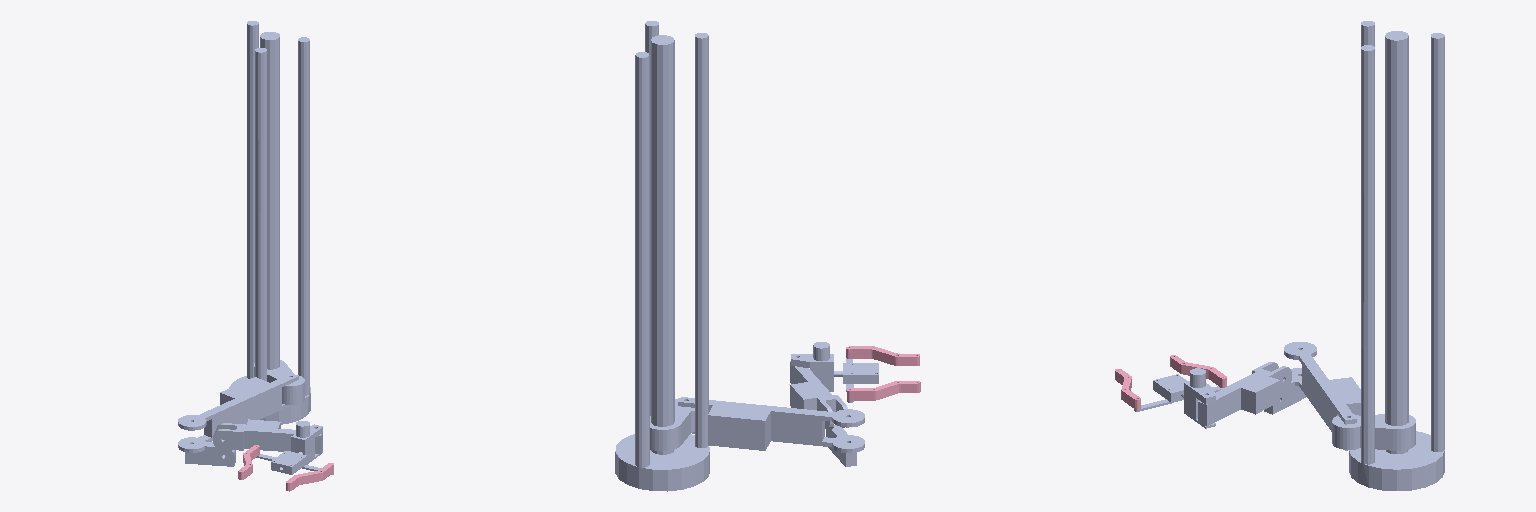
The robot description file, URDF, robot "brc_arm_description":
<?xml version="1.0" encoding="utf-8"?>
<!-- This URDF was automatically created by SolidWorks to URDF Exporter! Originally created by [author] ([email redacted]) 
     Commit Version: 1.6.0-1-g15f4949  Build Version: 1.6.7594.29634
     For more information, please see http://wiki.ros.org/sw_urdf_exporter -->
<robot
  name="brc_arm_description">
   <link name="world" />
    <joint name="fixed" type="fixed">
        <parent link="world" />
        <child link="base_link" />
    </joint>
  <link
    name="base_link">
    <inertial>
      <origin
        xyz="-0.236503421129914 -0.114070650833493 0.0912749287811716"
        rpy="0 0 0" />
      <mass
        value="127.989800714743" />
      <inertia
        ixx="11.6464707209795"
        ixy="0.746047479051374"
        ixz="0.11702150876578"
        iyy="17.6328580922711"
        iyz="0.241487672198289"
        izz="13.2544892494449" />
    </inertial>
    <visual>
      <origin
        xyz="0 0 0"
        rpy="0 0 0" />
      <geometry>
        <mesh
          filename="package://brc_arm_description/meshes/base_link.STL" />
      </geometry>
      <material
        name="">
        <color
          rgba="0.792156862745098 0.819607843137255 0.933333333333333 1" />
      </material>
    </visual>
    <collision>
      <origin
        xyz="0 0 0"
        rpy="0 0 0" />
      <geometry>
        <mesh
          filename="package://brc_arm_description/meshes/base_link.STL" />
      </geometry>
    </collision>
  </link>
  <link
    name="carriage">
    <inertial>
      <origin
        xyz="2.60133127612493E-18 0.0250000000000005 0.0539046334093021"
        rpy="0 0 0" />
      <mass
        value="0.447720870142158" />
      <inertia
        ixx="0.00109900282993972"
        ixy="8.14695699840894E-21"
        ixz="1.47343826082545E-20"
        iyy="0.00119322484755841"
        iyz="-3.76677817673167E-22"
        izz="0.000280772380177922" />
    </inertial>
    <visual>
      <origin
        xyz="0 0 0"
        rpy="0 0 0" />
      <geometry>
        <mesh
          filename="package://brc_arm_description/meshes/carriage.STL" />
      </geometry>
      <material
        name="">
        <color
          rgba="0.792156862745098 0.819607843137255 0.933333333333333 1" />
      </material>
    </visual>
    <collision>
      <origin
        xyz="0 0 0"
        rpy="0 0 0" />
      <geometry>
        <mesh
          filename="package://brc_arm_description/meshes/carriage.STL" />
      </geometry>
    </collision>
  </link>
  <joint
    name="carriageJ"
    type="prismatic">
    <origin
      xyz="0 0 0.065"
      rpy="1.5708 0 0" />
    <parent
      link="base_link" />
    <child
      link="carriage" />
    <axis
      xyz="0 1 0" />
    <limit
      lower="0"
      upper="0.885"
      effort="0"
      velocity="10" />
  </joint>
  <link
    name="midarm1">
    <inertial>
      <origin
        xyz="-0.203557861047764 0.0240670135873739 -0.0233639836713499"
        rpy="0 0 0" />
      <mass
        value="0.836203235137726" />
      <inertia
        ixx="0.00151945911351229"
        ixy="-0.000102923359495151"
        ixz="0.000240522861339413"
        iyy="0.00702698610521792"
        iyz="-9.31764631877636E-05"
        izz="0.0071837422694106" />
    </inertial>
    <visual>
      <origin
        xyz="0 0 0"
        rpy="0 0 0" />
      <geometry>
        <mesh
          filename="package://brc_arm_description/meshes/midarm1.STL" />
      </geometry>
      <material
        name="">
        <color
          rgba="0.792156862745098 0.819607843137255 0.933333333333333 1" />
      </material>
    </visual>
    <collision>
      <origin
        xyz="0 0 0"
        rpy="0 0 0" />
      <geometry>
        <mesh
          filename="package://brc_arm_description/meshes/midarm1.STL" />
      </geometry>
    </collision>
  </link>
  <joint
    name="midarm1J"
    type="revolute">
    <origin
      xyz="0 0 0.1"
      rpy="0 0.2932 0" />
    <parent
      link="carriage" />
    <child
      link="midarm1" />
    <axis
      xyz="0 1 0" />
    <limit
      lower="0"
      upper="2.7423"
      effort="0"
      velocity="10" />
  </joint>
  <link
    name="midarm2">
    <inertial>
      <origin
        xyz="0.0437798591057959 0.0206817493001328 2.4980018054066E-16"
        rpy="0 0 0" />
      <mass
        value="0.0646775902886998" />
      <inertia
        ixx="2.3728145359128E-05"
        ixy="-1.49350689133807E-06"
        ixz="1.37642853928824E-19"
        iyy="7.7948360762991E-05"
        iyz="1.18319914819585E-20"
        izz="9.1312862306253E-05" />
    </inertial>
    <visual>
      <origin
        xyz="0 0 0"
        rpy="0 0 0" />
      <geometry>
        <mesh
          filename="package://brc_arm_description/meshes/midarm2.STL" />
      </geometry>
      <material
        name="">
        <color
          rgba="0.792156862745098 0.819607843137255 0.933333333333333 1" />
      </material>
    </visual>
    <collision>
      <origin
        xyz="0 0 0"
        rpy="0 0 0" />
      <geometry>
        <mesh
          filename="package://brc_arm_description/meshes/midarm2.STL" />
      </geometry>
    </collision>
  </link>
  <joint
    name="midarm2J"
    type="revolute">
    <origin
      xyz="-0.35 0 0"
      rpy="0 -0.9826 0" />
    <parent
      link="midarm1" />
    <child
      link="midarm2" />
    <axis
      xyz="0 -1 0" />
    <limit
      lower="0"
      upper="4.1887"
      effort="0"
      velocity="10" />
  </joint>
  <link
    name="wrist1">
    <inertial>
      <origin
        xyz="0.0903131624724206 -0.00462740982819056 0.0208801756228061"
        rpy="0 0 0" />
      <mass
        value="0.419666572951628" />
      <inertia
        ixx="0.000346854880152641"
        ixy="2.70709984964616E-06"
        ixz="-5.02615984609936E-05"
        iyy="0.00143713508844135"
        iyz="3.62665449634077E-05"
        izz="0.00143304792270374" />
    </inertial>
    <visual>
      <origin
        xyz="0 0 0"
        rpy="0 0 0" />
      <geometry>
        <mesh
          filename="package://brc_arm_description/meshes/wrist1.STL" />
      </geometry>
      <material
        name="">
        <color
          rgba="0.792156862745098 0.819607843137255 0.933333333333333 1" />
      </material>
    </visual>
    <collision>
      <origin
        xyz="0 0 0"
        rpy="0 0 0" />
      <geometry>
        <mesh
          filename="package://brc_arm_description/meshes/wrist1.STL" />
      </geometry>
    </collision>
  </link>
  <joint
    name="wrist1J"
    type="revolute">
    <origin
      xyz="0.08 0.025 0"
      rpy="0 0 0" />
    <parent
      link="midarm2" />
    <child
      link="wrist1" />
    <axis
      xyz="0 0 -1" />
    <limit
      lower="0"
      upper="1.57"
      effort="0"
      velocity="10" />
  </joint>
  <link
    name="wrist2">
    <inertial>
      <origin
        xyz="0.043767510273945 0.018260701276372 0.00653583627389159"
        rpy="0 0 0" />
      <mass
        value="0.129512939632169" />
      <inertia
        ixx="0.000129578871276748"
        ixy="2.7857330733907E-06"
        ixz="-2.66314903931952E-06"
        iyy="8.51895227169167E-05"
        iyz="-9.1141143603532E-07"
        izz="0.000185624075448265" />
    </inertial>
    <visual>
      <origin
        xyz="0 0 0"
        rpy="0 0 0" />
      <geometry>
        <mesh
          filename="package://brc_arm_description/meshes/wrist2.STL" />
      </geometry>
      <material
        name="">
        <color
          rgba="0.792156862745098 0.819607843137255 0.933333333333333 1" />
      </material>
    </visual>
    <collision>
      <origin
        xyz="0 0 0"
        rpy="0 0 0" />
      <geometry>
        <mesh
          filename="package://brc_arm_description/meshes/wrist2.STL" />
      </geometry>
    </collision>
  </link>
  <joint
    name="wrist2J"
    type="revolute">
    <origin
      xyz="0.225 0 0"
      rpy="-3.1416 -1.2217 3.1416" />
    <parent
      link="wrist1" />
    <child
      link="wrist2" />
    <axis
      xyz="0 1 0" />
    <limit
      lower="0"
      upper="4.165"
      effort="0"
      velocity="10" />
  </joint>
  <link
    name="EEbase">
    <inertial>
      <origin
        xyz="1.66533453693773E-16 -2.51187959321442E-15 -0.0327794628998194"
        rpy="0 0 0" />
      <mass
        value="0.0926044760959502" />
      <inertia
        ixx="4.81318826783348E-05"
        ixy="-1.47483927353917E-20"
        ixz="3.04931861011548E-20"
        iyy="7.32482359165231E-05"
        iyz="-9.66395961887129E-20"
        izz="3.29932559448168E-05" />
    </inertial>
    <visual>
      <origin
        xyz="0 0 0"
        rpy="0 0 0" />
      <geometry>
        <mesh
          filename="package://brc_arm_description/meshes/EEbase.STL" />
      </geometry>
      <material
        name="">
        <color
          rgba="0.792156862745098 0.819607843137255 0.933333333333333 1" />
      </material>
    </visual>
    <collision>
      <origin
        xyz="0 0 0"
        rpy="0 0 0" />
      <geometry>
        <mesh
          filename="package://brc_arm_description/meshes/EEbase.STL" />
      </geometry>
    </collision>
  </link>
  <joint
    name="EEbaseJ"
    type="continuous">
    <origin
      xyz="0.095 0 0"
      rpy="0 -1.5708 0" />
    <parent
      link="wrist2" />
    <child
      link="EEbase" />
    <axis
      xyz="0 0 1" />
    <limit
      lower="0"
      upper="0"
      effort="0"
      velocity="10" />
  </joint>
  <link
    name="RLink1">
    <inertial>
      <origin
        xyz="0.04 -0.00249999999999992 1.11022302462516E-16"
        rpy="0 0 0" />
      <mass
        value="0.00668722339297277" />
      <inertia
        ixx="1.38550163626324E-07"
        ixy="-1.87416967228555E-21"
        ixz="-8.71848365630891E-21"
        iyy="4.66129432520502E-06"
        iyz="-1.12365087540218E-22"
        izz="4.55060759238276E-06" />
    </inertial>
    <visual>
      <origin
        xyz="0 0 0"
        rpy="0 0 0" />
      <geometry>
        <mesh
          filename="package://brc_arm_description/meshes/RLink1.STL" />
      </geometry>
      <material
        name="">
        <color
          rgba="0.792156862745098 0.819607843137255 0.933333333333333 1" />
      </material>
    </visual>
    <collision>
      <origin
        xyz="0 0 0"
        rpy="0 0 0" />
      <geometry>
        <mesh
          filename="package://brc_arm_description/meshes/RLink1.STL" />
      </geometry>
    </collision>
  </link>
  <joint
    name="RLink1J"
    type="revolute">
    <origin
      xyz="0.024 -0.011 -0.014095"
      rpy="0 0 0" />
    <parent
      link="EEbase" />
    <child
      link="RLink1" />
    <axis
      xyz="0 1 0" />
    <limit
      lower="0"
      upper="6.283"
      effort="0"
      velocity="10" />
  </joint>
  <link
    name="RFinger">
    <inertial>
      <origin
        xyz="0.0174831476155697 0.0707338411471632 -0.011"
        rpy="0 0 0" />
      <mass
        value="0.052748844949343" />
      <inertia
        ixx="9.60936833531592E-05"
        ixy="-3.36352218446777E-05"
        ixz="3.50412858318045E-20"
        iyy="1.68927505422671E-05"
        iyz="8.24116412406916E-20"
        izz="0.000108731360402846" />
    </inertial>
    <visual>
      <origin
        xyz="0 0 0"
        rpy="0 0 0" />
      <geometry>
        <mesh
          filename="package://brc_arm_description/meshes/RFinger.STL" />
      </geometry>
      <material
        name="">
        <color
          rgba="1 0.717647058823529 0.819607843137255 1" />
      </material>
    </visual>
    <collision>
      <origin
        xyz="0 0 0"
        rpy="0 0 0" />
      <geometry>
        <mesh
          filename="package://brc_arm_description/meshes/RFinger.STL" />
      </geometry>
    </collision>
  </link>
  <joint
    name="RFingerJ"
    type="revolute">
    <origin
      xyz="0.08 0 0"
      rpy="-1.5708 0 -3.1416" />
    <parent
      link="RLink1" />
    <child
      link="RFinger" />
    <axis
      xyz="0 0 1" />
    <limit
      lower="0"
      upper="0"
      effort="0"
      velocity="10" />
    <mimic
      joint="RLink1J"
      multiplier="-1"
      offset="0" />
  </joint>
  <link
    name="LLink1">
    <inertial>
      <origin
        xyz="-0.0400000000000001 -0.00249999999999997 -3.88578058618805E-16"
        rpy="0 0 0" />
      <mass
        value="0.00668722339297277" />
      <inertia
        ixx="1.38550163626324E-07"
        ixy="-1.91820017504688E-21"
        ixz="-8.29496718268176E-21"
        iyy="4.66129432520503E-06"
        iyz="-2.15898008823249E-22"
        izz="4.55060759238276E-06" />
    </inertial>
    <visual>
      <origin
        xyz="0 0 0"
        rpy="0 0 0" />
      <geometry>
        <mesh
          filename="package://brc_arm_description/meshes/LLink1.STL" />
      </geometry>
      <material
        name="">
        <color
          rgba="0.792156862745098 0.819607843137255 0.933333333333333 1" />
      </material>
    </visual>
    <collision>
      <origin
        xyz="0 0 0"
        rpy="0 0 0" />
      <geometry>
        <mesh
          filename="package://brc_arm_description/meshes/LLink1.STL" />
      </geometry>
    </collision>
  </link>
  <joint
    name="LLink1J"
    type="revolute">
    <origin
      xyz="-0.024 -0.011 -0.014095"
      rpy="0 0 0" />
    <parent
      link="EEbase" />
    <child
      link="LLink1" />
    <axis
      xyz="0 1 0" />
    <limit
      lower="0"
      upper="0"
      effort="0"
      velocity="10" />
    <mimic
      joint="RLink1J"
      multiplier="-1"
      offset="0" />
  </joint>
  <link
    name="LFinger">
    <inertial>
      <origin
        xyz="0.0174831476155701 0.0707338411471631 0.011"
        rpy="0 0 0" />
      <mass
        value="0.052748844949343" />
      <inertia
        ixx="9.60936833531593E-05"
        ixy="-3.36352218446776E-05"
        ixz="1.18794225068374E-20"
        iyy="1.6892750542267E-05"
        iyz="2.77347204785423E-20"
        izz="0.000108731360402846" />
    </inertial>
    <visual>
      <origin
        xyz="0 0 0"
        rpy="0 0 0" />
      <geometry>
        <mesh
          filename="package://brc_arm_description/meshes/LFinger.STL" />
      </geometry>
      <material
        name="">
        <color
          rgba="1 0.717647058823529 0.819607843137255 1" />
      </material>
    </visual>
    <collision>
      <origin
        xyz="0 0 0"
        rpy="0 0 0" />
      <geometry>
        <mesh
          filename="package://brc_arm_description/meshes/LFinger.STL" />
      </geometry>
    </collision>
  </link>
  <joint
    name="LFingerJ"
    type="revolute">
    <origin
      xyz="-0.08 0 0"
      rpy="-1.5708 0 0" />
    <parent
      link="LLink1" />
    <child
      link="LFinger" />
    <axis
      xyz="0 0 1" />
    <limit
      lower="0"
      upper="0"
      effort="0"
      velocity="10" />
    <mimic
      joint="LLink1J"
      multiplier="-1"
      offset="0" />
  </joint>
</robot>

--- What the picture shows (computed from the rendered views, not written in the file) ---
Views: 3 orthographic renders of the robot side by side, from view 1: azimuth 30°, elevation 25°; view 2: azimuth 150°, elevation 25°; view 3: azimuth 270°, elevation 25°.
Robot: brc_arm_description — 12 links, 11 joints (8 revolute, 1 continuous, 1 prismatic, 1 fixed); root link world; default pose: every joint at zero.
Visible links, largest first — view 1: base_link, midarm1, wrist1, midarm2, wrist2, carriage, EEbase, LFinger; view 2: base_link, midarm1, wrist1, carriage, wrist2, LFinger, RFinger, EEbase; view 3: base_link, midarm1, wrist1, carriage, wrist2, EEbase, RFinger, midarm2, LFinger.
Link boxes in pixels (x1,y1,x2,y2): base_link: [229, 21, 310, 424]; midarm1: [178, 373, 298, 452]; wrist1: [213, 419, 322, 454]; midarm2: [185, 441, 235, 466]; wrist2: [291, 421, 322, 464]; carriage: [254, 360, 304, 404]; EEbase: [271, 451, 306, 474]; LFinger: [286, 463, 333, 491]; base_link: [615, 21, 709, 491]; midarm1: [678, 397, 864, 452]; wrist1: [790, 361, 847, 429]; carriage: [650, 397, 694, 451]; wrist2: [791, 342, 842, 391]; LFinger: [846, 346, 919, 365]; RFinger: [847, 381, 920, 400]; EEbase: [843, 363, 878, 383]; base_link: [1349, 21, 1444, 490]; midarm1: [1284, 342, 1360, 450]; wrist1: [1198, 362, 1291, 425]; carriage: [1332, 414, 1415, 450]; wrist2: [1181, 368, 1215, 428]; EEbase: [1153, 374, 1187, 402]; RFinger: [1170, 355, 1226, 387]; midarm2: [1264, 373, 1305, 414]; LFinger: [1115, 369, 1140, 409].
Bounding box of the posed robot: 0.4698 × 0.6868 × 1 m (x, y, z).
Meshes: 11 distinct files referenced, 11 mesh visuals loaded (11 binary STL).